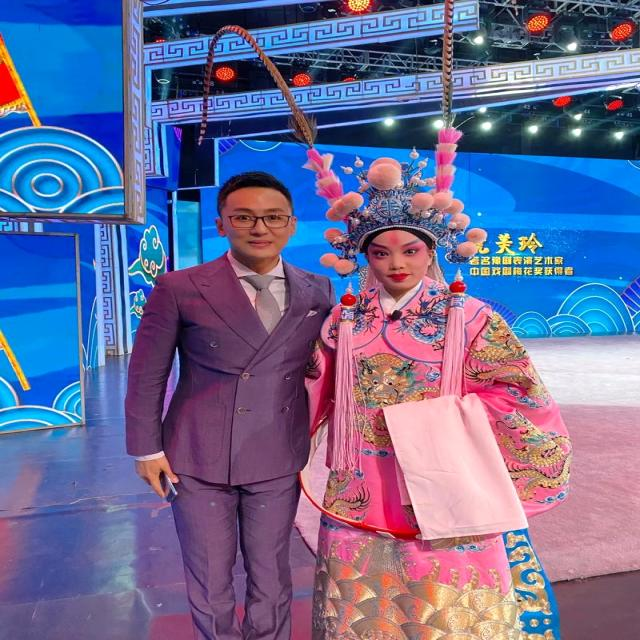Reeves-s Pheasant: (196, 19, 322, 150), (438, 0, 458, 129)
